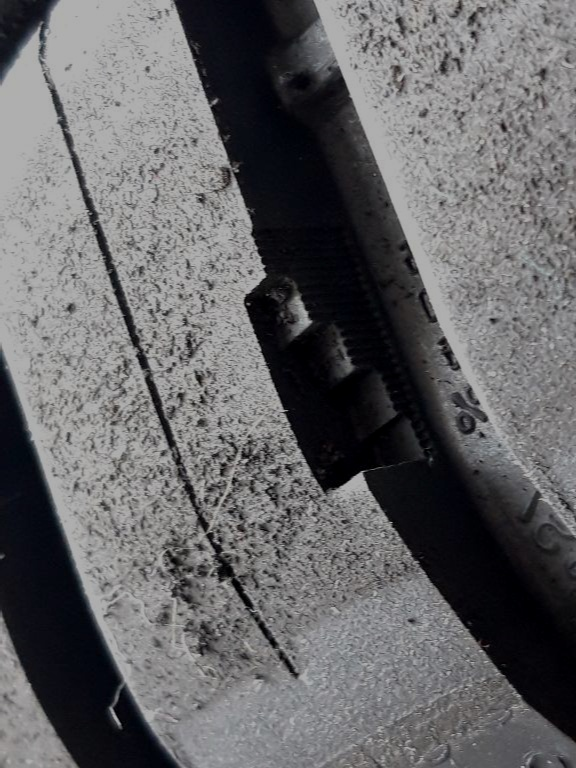temoin:95: (231, 210, 447, 512)
